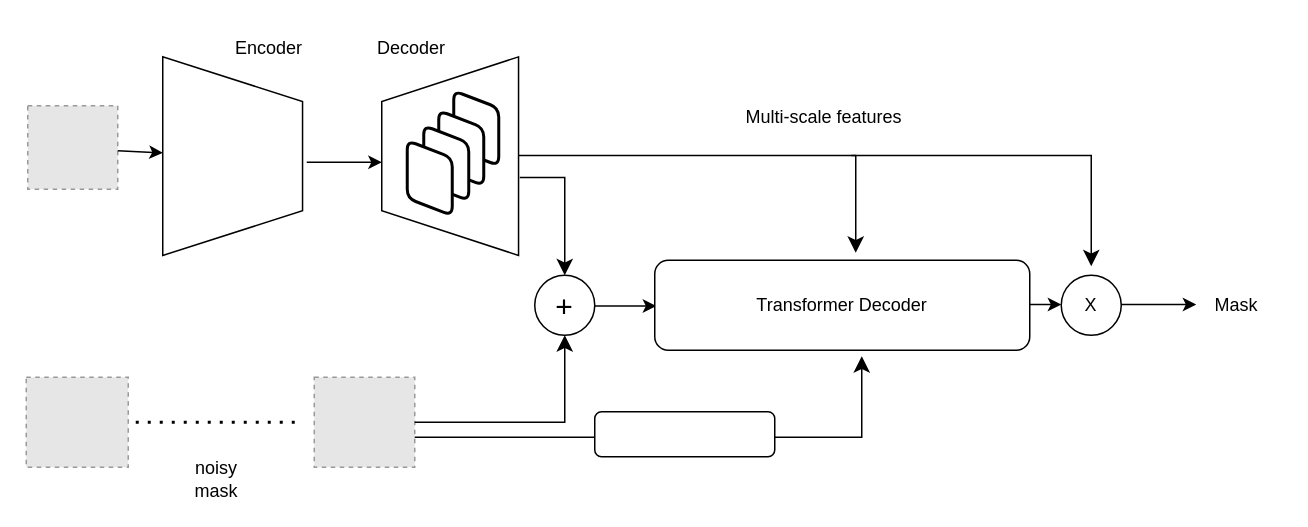
Image size: 1308x527. Some labels were removed from this diagram. Grey dashed boxes stand in for pictures. Here are the shapes that lost their labels. From the top down, the centre of each, then its label:
At (232,155): "Backbone".
At (684,433): "Attention mask".
